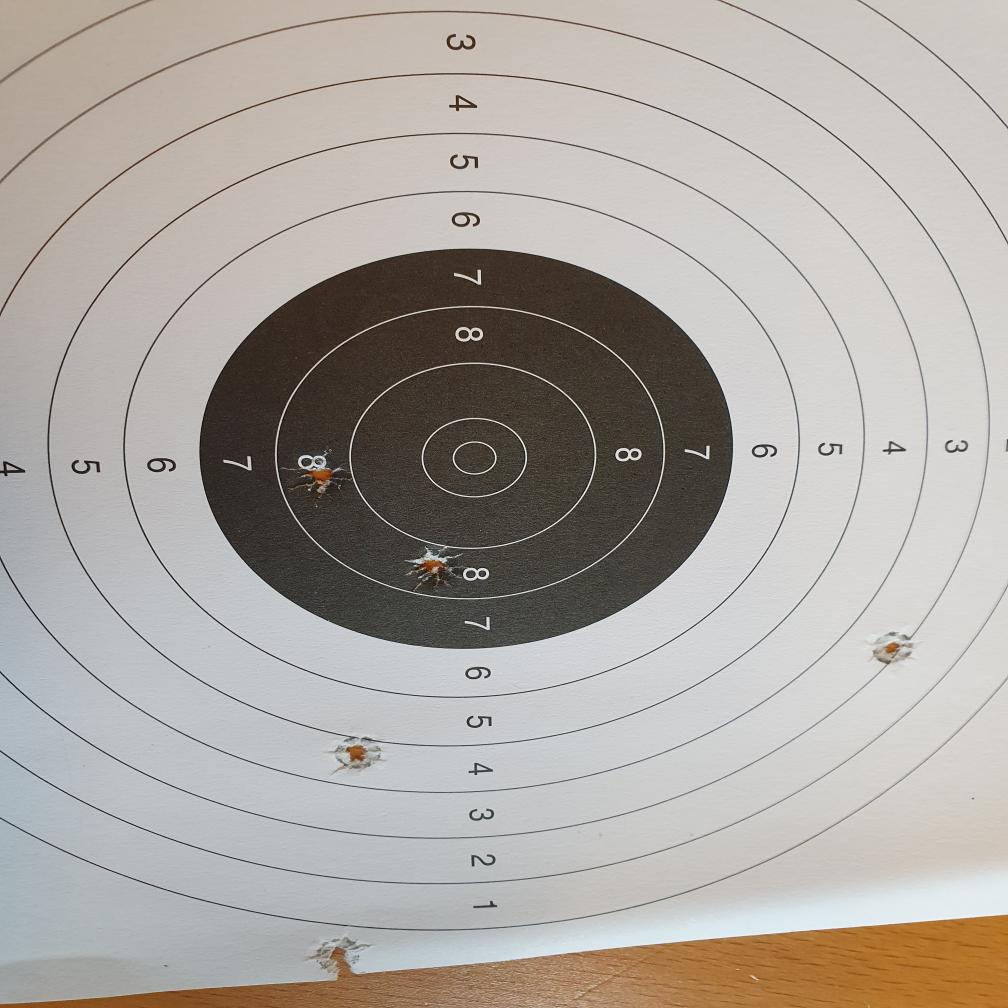0: (306, 937, 368, 985)
3: (866, 629, 920, 666)
5: (328, 732, 386, 774)
8: (396, 544, 464, 590), (286, 460, 347, 499)
Target: (0, 0, 1008, 930)
black_contour: (201, 248, 733, 650)
